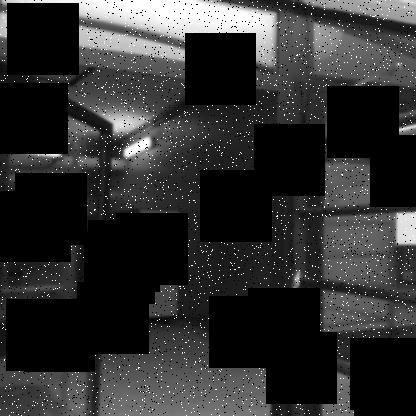Porte: (0, 35, 290, 415)
